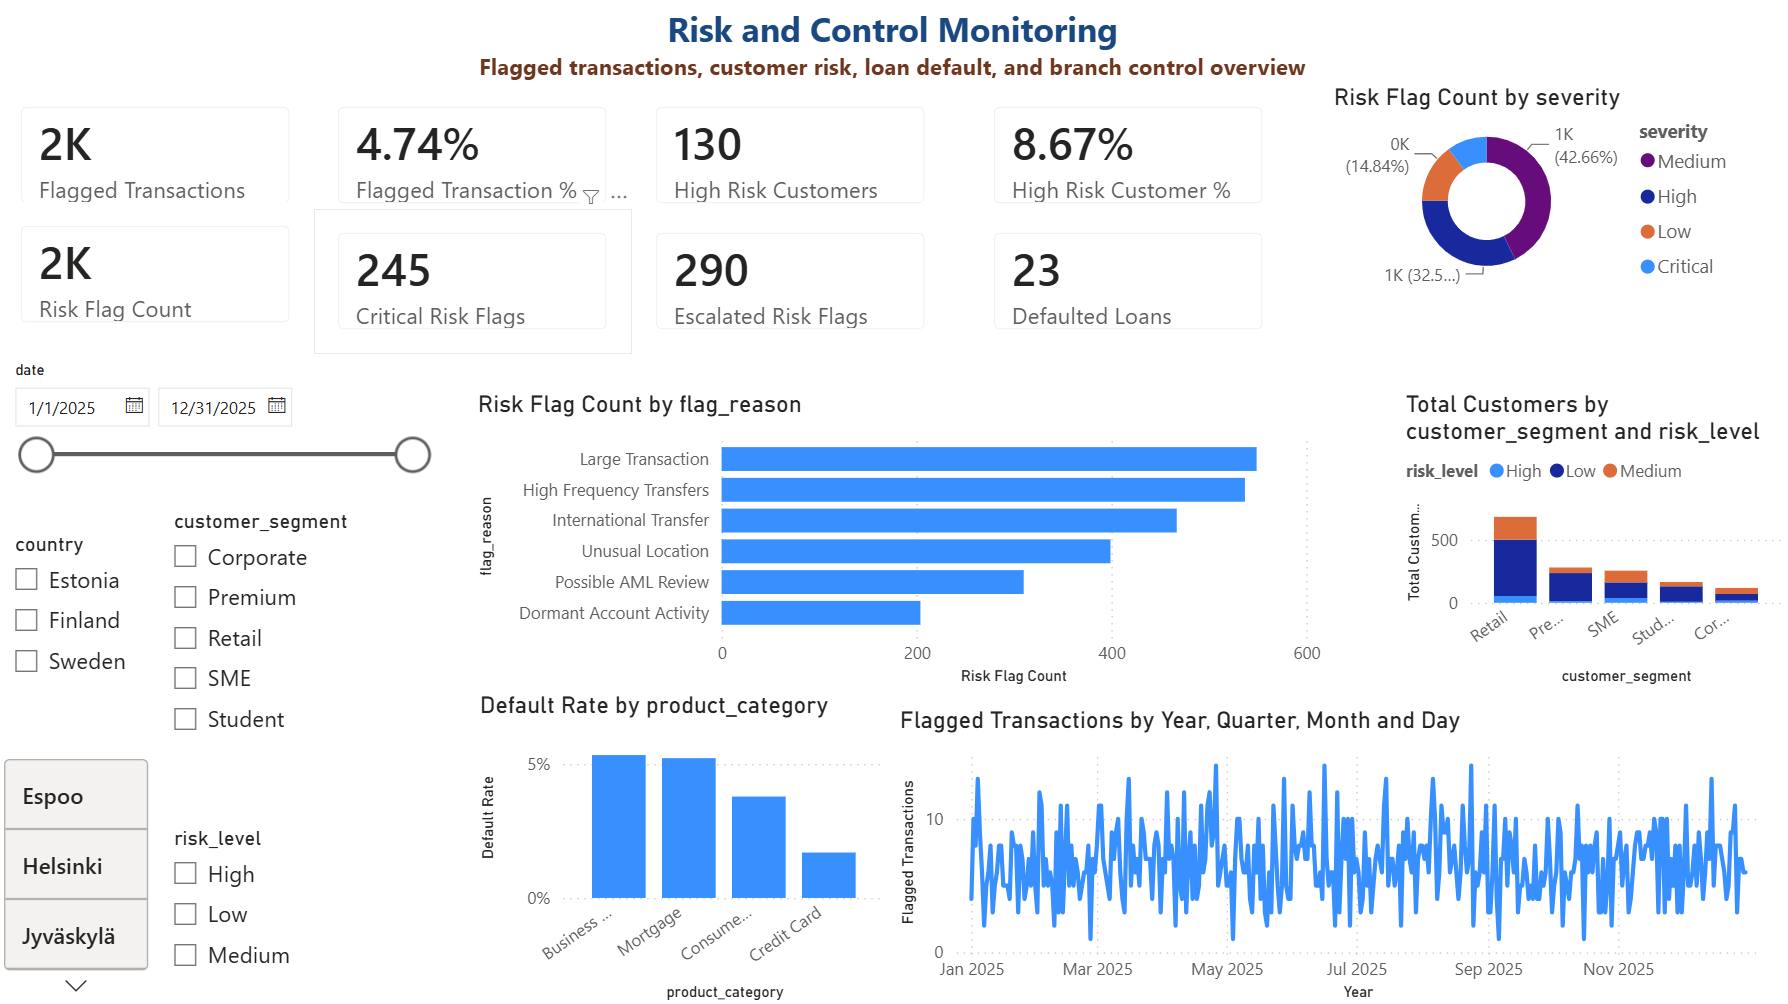

This screenshot's page, from the dashboard's own definition file:
{"tool":"powerbi","page":{"name":"Risk Monitoring","canvas":[1280,720],"ordinal":1},"visuals":[{"type":"textbox","box":[329.2,0,620.8,79.2],"z":0},{"type":"cardVisual","fields":{"Data":["_Measures.Flagged Transactions"]},"box":[0,60,226.7,103.3],"z":1000},{"type":"cardVisual","fields":{"Data":["_Measures.Flagged Transaction %"]},"box":[226.7,60,226.7,103.3],"z":2000},{"type":"cardVisual","fields":{"Data":["_Measures.High Risk Customers"]},"box":[453.3,60,226.7,103.3],"z":3000},{"type":"cardVisual","fields":{"Data":["_Measures.High Risk Customer %"]},"box":[695,60,226.7,103.3],"z":4000},{"type":"cardVisual","fields":{"Data":["_Measures.Risk Flag Count"]},"box":[0,145,226.7,103.3],"z":5000},{"type":"cardVisual","fields":{"Data":["_Measures.Critical Risk Flags"]},"box":[226.7,150,226.7,103.3],"z":6000},{"type":"cardVisual","fields":{"Data":["_Measures.Escalated Risk Flags"]},"box":[453.3,150,226.7,103.3],"z":7000},{"type":"cardVisual","fields":{"Data":["_Measures.Defaulted Loans"]},"box":[695,150,226.7,103.3],"z":8000},{"type":"slicer","fields":{"Values":["calendar.date"]},"box":[0,253.3,318.3,95.8],"z":9000},{"type":"slicer","fields":{"Values":["branches.country"]},"box":[0,376.7,120.8,117.5],"z":10000},{"type":"cardVisual","fields":{"Rows":["branches.city"]},"box":[0,517.5,113.3,202.5],"z":11000},{"type":"slicer","fields":{"Values":["customers.customer_segment"]},"box":[113.3,360,178.3,176.7],"z":12000},{"type":"slicer","fields":{"Values":["customers.risk_level"]},"box":[113.3,586.7,138.3,133.3],"z":13000},{"type":"clusteredBarChart","fields":{"Category":["risk_flags.flag_reason"],"Y":["_Measures.Risk Flag Count"]},"box":[338.3,279.2,611.7,215],"z":14000},{"type":"donutChart","fields":{"Category":["risk_flags.severity"],"Y":["_Measures.Risk Flag Count"]},"box":[950,60,300,150],"z":15000},{"type":"lineChart","fields":{"Category":["calendar.date.Variation.Date Hierarchy.Year","calendar.date.Variation.Date Hierarchy.Quarter","calendar.date.Variation.Date Hierarchy.Month","calendar.date.Variation.Date Hierarchy.Day"],"Y":["_Measures.Flagged Transactions"]},"box":[640,505,640,215],"z":16000},{"type":"columnChart","fields":{"Category":["customers.customer_segment"],"Y":["_Measures.Total Customers"],"Series":["customers.risk_level"]},"box":[1001.7,279.2,278.3,215],"z":17000},{"type":"clusteredColumnChart","fields":{"Category":["products.product_category"],"Y":["_Measures.Default Rate"]},"box":[340,494.2,300,225.8],"z":18000}]}

Visuals, with their boxes in screenshot pixels (x1, y1, x2, y2), scaled from the page's 1280x720 canvas onto the 1788x1004 screenshot:
textbox: x1=460, y1=0, x2=1327, y2=110
cardVisual - _Measures.Flagged Transactions: x1=0, y1=84, x2=317, y2=228
cardVisual - _Measures.Flagged Transaction %: x1=317, y1=84, x2=633, y2=228
cardVisual - _Measures.High Risk Customers: x1=633, y1=84, x2=950, y2=228
cardVisual - _Measures.High Risk Customer %: x1=971, y1=84, x2=1287, y2=228
cardVisual - _Measures.Risk Flag Count: x1=0, y1=202, x2=317, y2=346
cardVisual - _Measures.Critical Risk Flags: x1=317, y1=209, x2=633, y2=353
cardVisual - _Measures.Escalated Risk Flags: x1=633, y1=209, x2=950, y2=353
cardVisual - _Measures.Defaulted Loans: x1=971, y1=209, x2=1287, y2=353
slicer - calendar.date: x1=0, y1=353, x2=445, y2=487
slicer - branches.country: x1=0, y1=525, x2=169, y2=689
cardVisual - branches.city: x1=0, y1=722, x2=158, y2=1003
slicer - customers.customer_segment: x1=158, y1=502, x2=407, y2=748
slicer - customers.risk_level: x1=158, y1=818, x2=351, y2=1003
clusteredBarChart - risk_flags.flag_reason x _Measures.Risk Flag Count: x1=473, y1=389, x2=1327, y2=689
donutChart - risk_flags.severity x _Measures.Risk Flag Count: x1=1327, y1=84, x2=1746, y2=293
lineChart - calendar.date.Variation.Date Hierarchy.Year x calendar.date.Variation.Date Hierarchy.Quarter: x1=894, y1=704, x2=1787, y2=1003
columnChart - customers.customer_segment x _Measures.Total Customers: x1=1399, y1=389, x2=1787, y2=689
clusteredColumnChart - products.product_category x _Measures.Default Rate: x1=475, y1=689, x2=894, y2=1003
